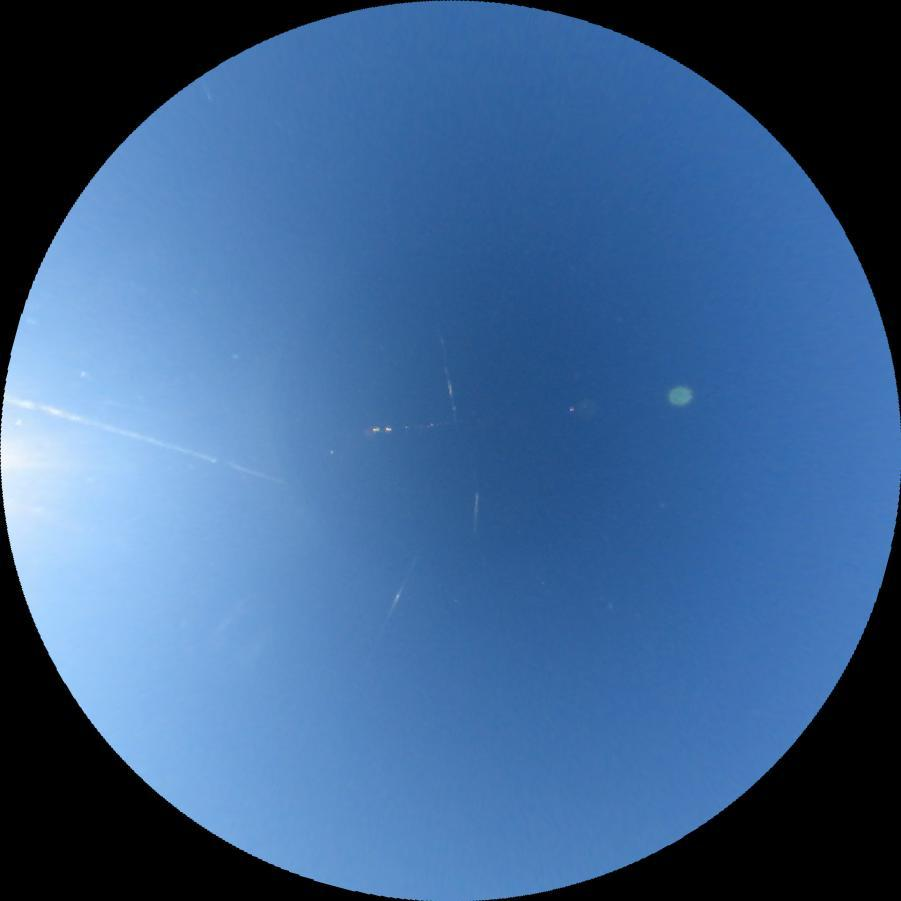parasite: (2, 393, 272, 482), (375, 554, 420, 638), (436, 328, 459, 427), (472, 492, 479, 530)
